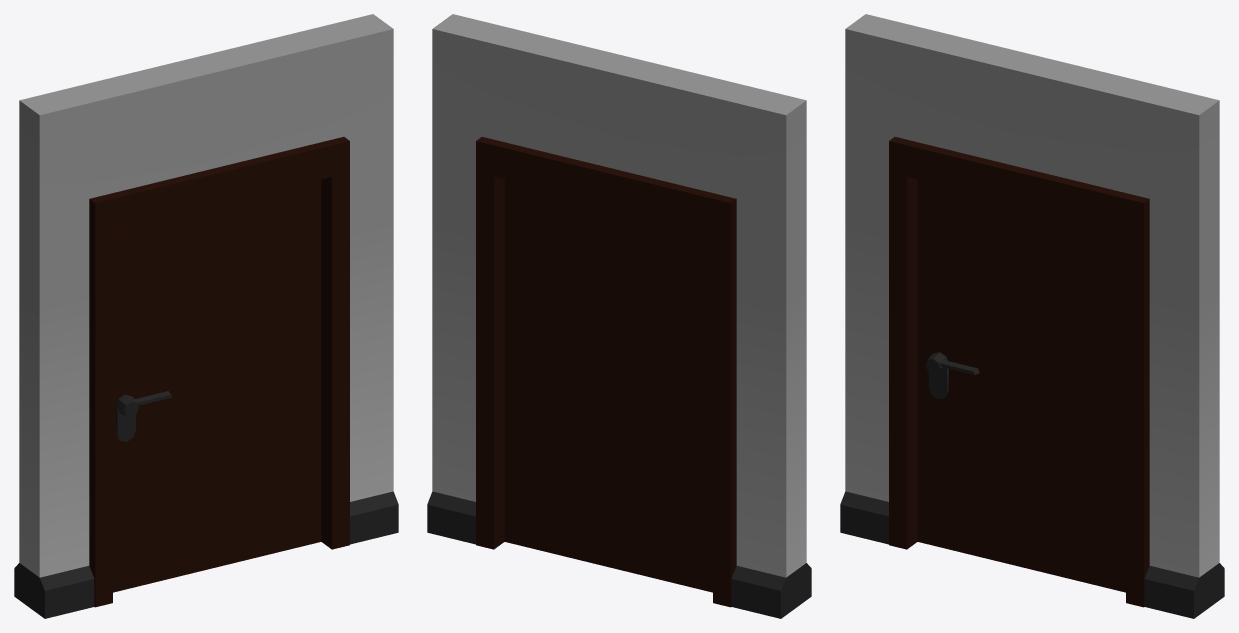
The model's file is DoorWallWithDoor.glb.
The picture shows the model from 3 angles, left to right: view 1: azimuth 30°, elevation 25°; view 2: azimuth 150°, elevation 25°; view 3: azimuth 330°, elevation 25°; orthographic projection.
Parts seen in each view (by area): view 1: DoorWall, Door; view 2: DoorWall, Door; view 3: DoorWall, Door.
Part boxes in pixels (left/top/right/bottom): DoorWall: left=14, top=14, right=398, bottom=618; Door: left=113, top=179, right=321, bottom=592; DoorWall: left=427, top=14, right=811, bottom=618; Door: left=504, top=179, right=712, bottom=592; DoorWall: left=840, top=14, right=1224, bottom=618; Door: left=917, top=179, right=1125, bottom=592.
Size of the model in its own units: 2 by 2.7 by 0.3151.
2 materials, 2 textured.
